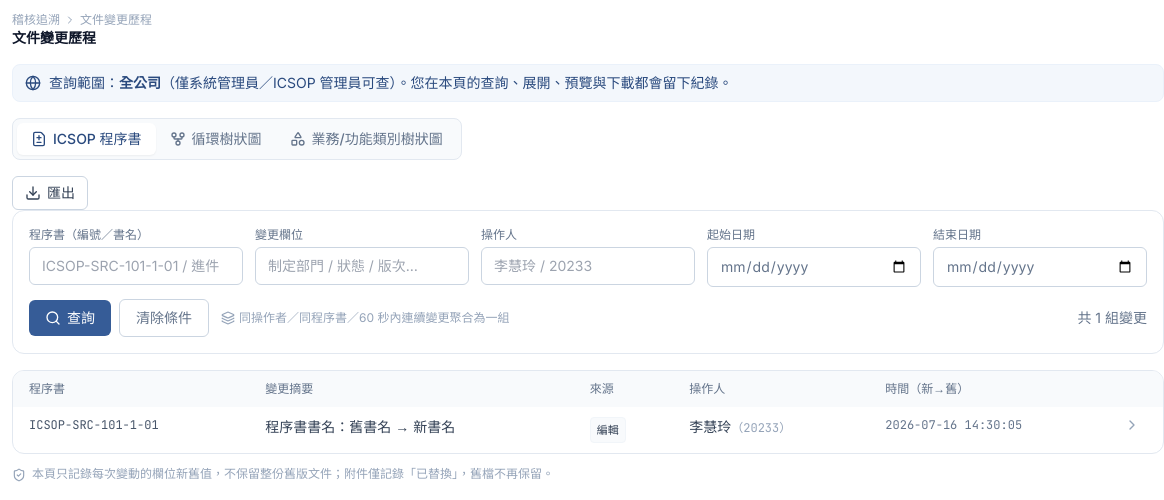
Scenario: ChangeHistoryPage — F038 AC-S1 事件清單「循環別」欄 › [data-cycle-cell] 呈現該事件所屬循環之顯示名稱（含子分類）
Step 1. Click the button "循環樹狀圖" → (216, 139), box [156,123,276,155]
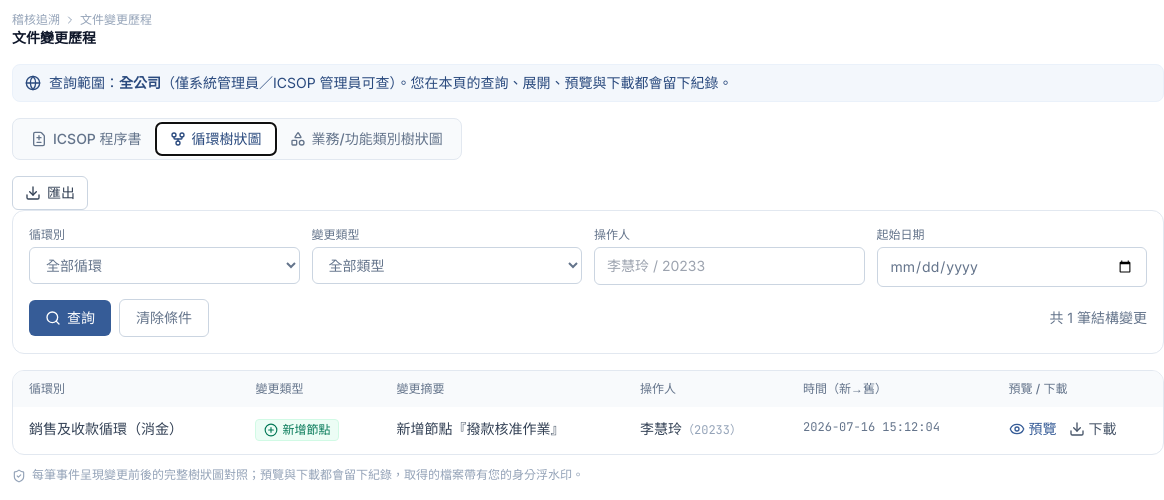
Result: the cell "銷售及收款循環（消金）" is shown at [13,407,239,454]
